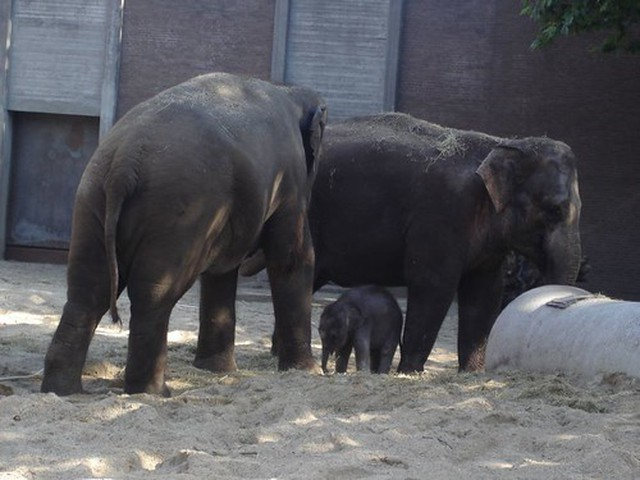Elephant: (39, 71, 591, 385)
